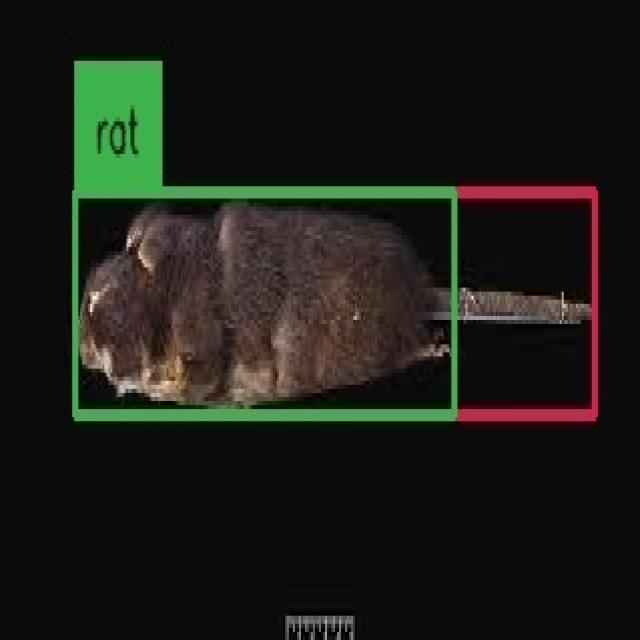rat: (74, 192, 594, 416), (76, 192, 454, 416)
